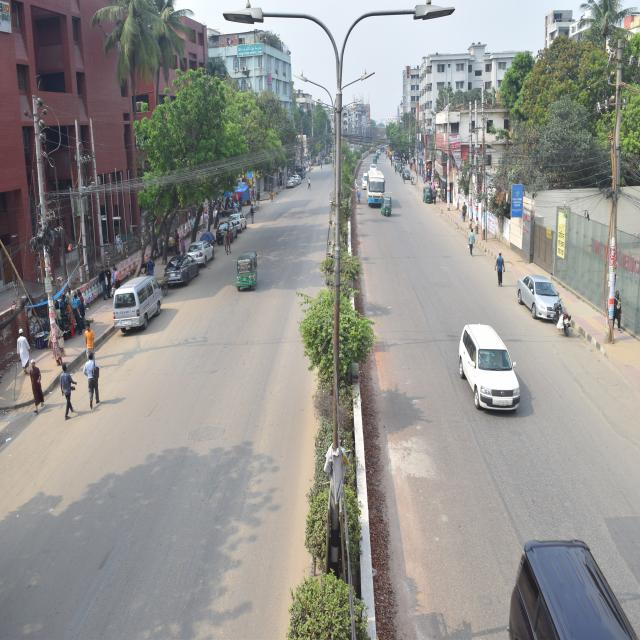bus: (362, 170, 392, 216)
car: (446, 312, 528, 440), (518, 270, 560, 323), (168, 250, 197, 296), (188, 232, 212, 266), (233, 200, 250, 237), (215, 215, 236, 240)
microbus: (115, 302, 147, 325)
motorbike: (549, 296, 573, 335)
